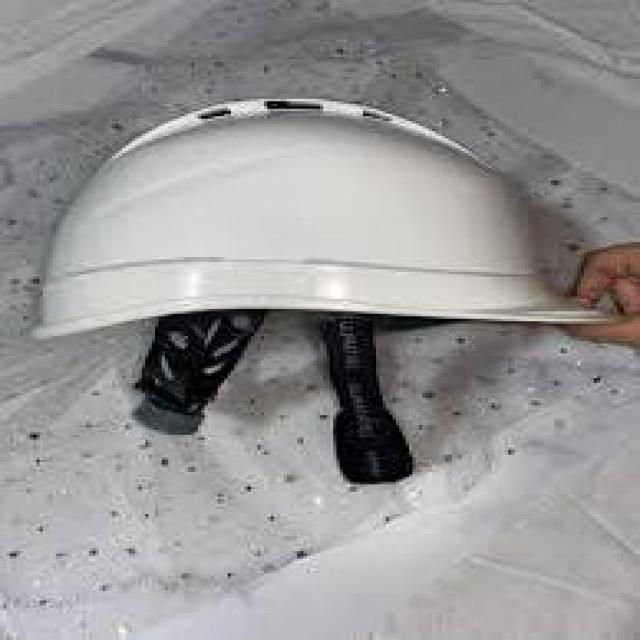Safety-Helmet: (13, 94, 630, 348)
